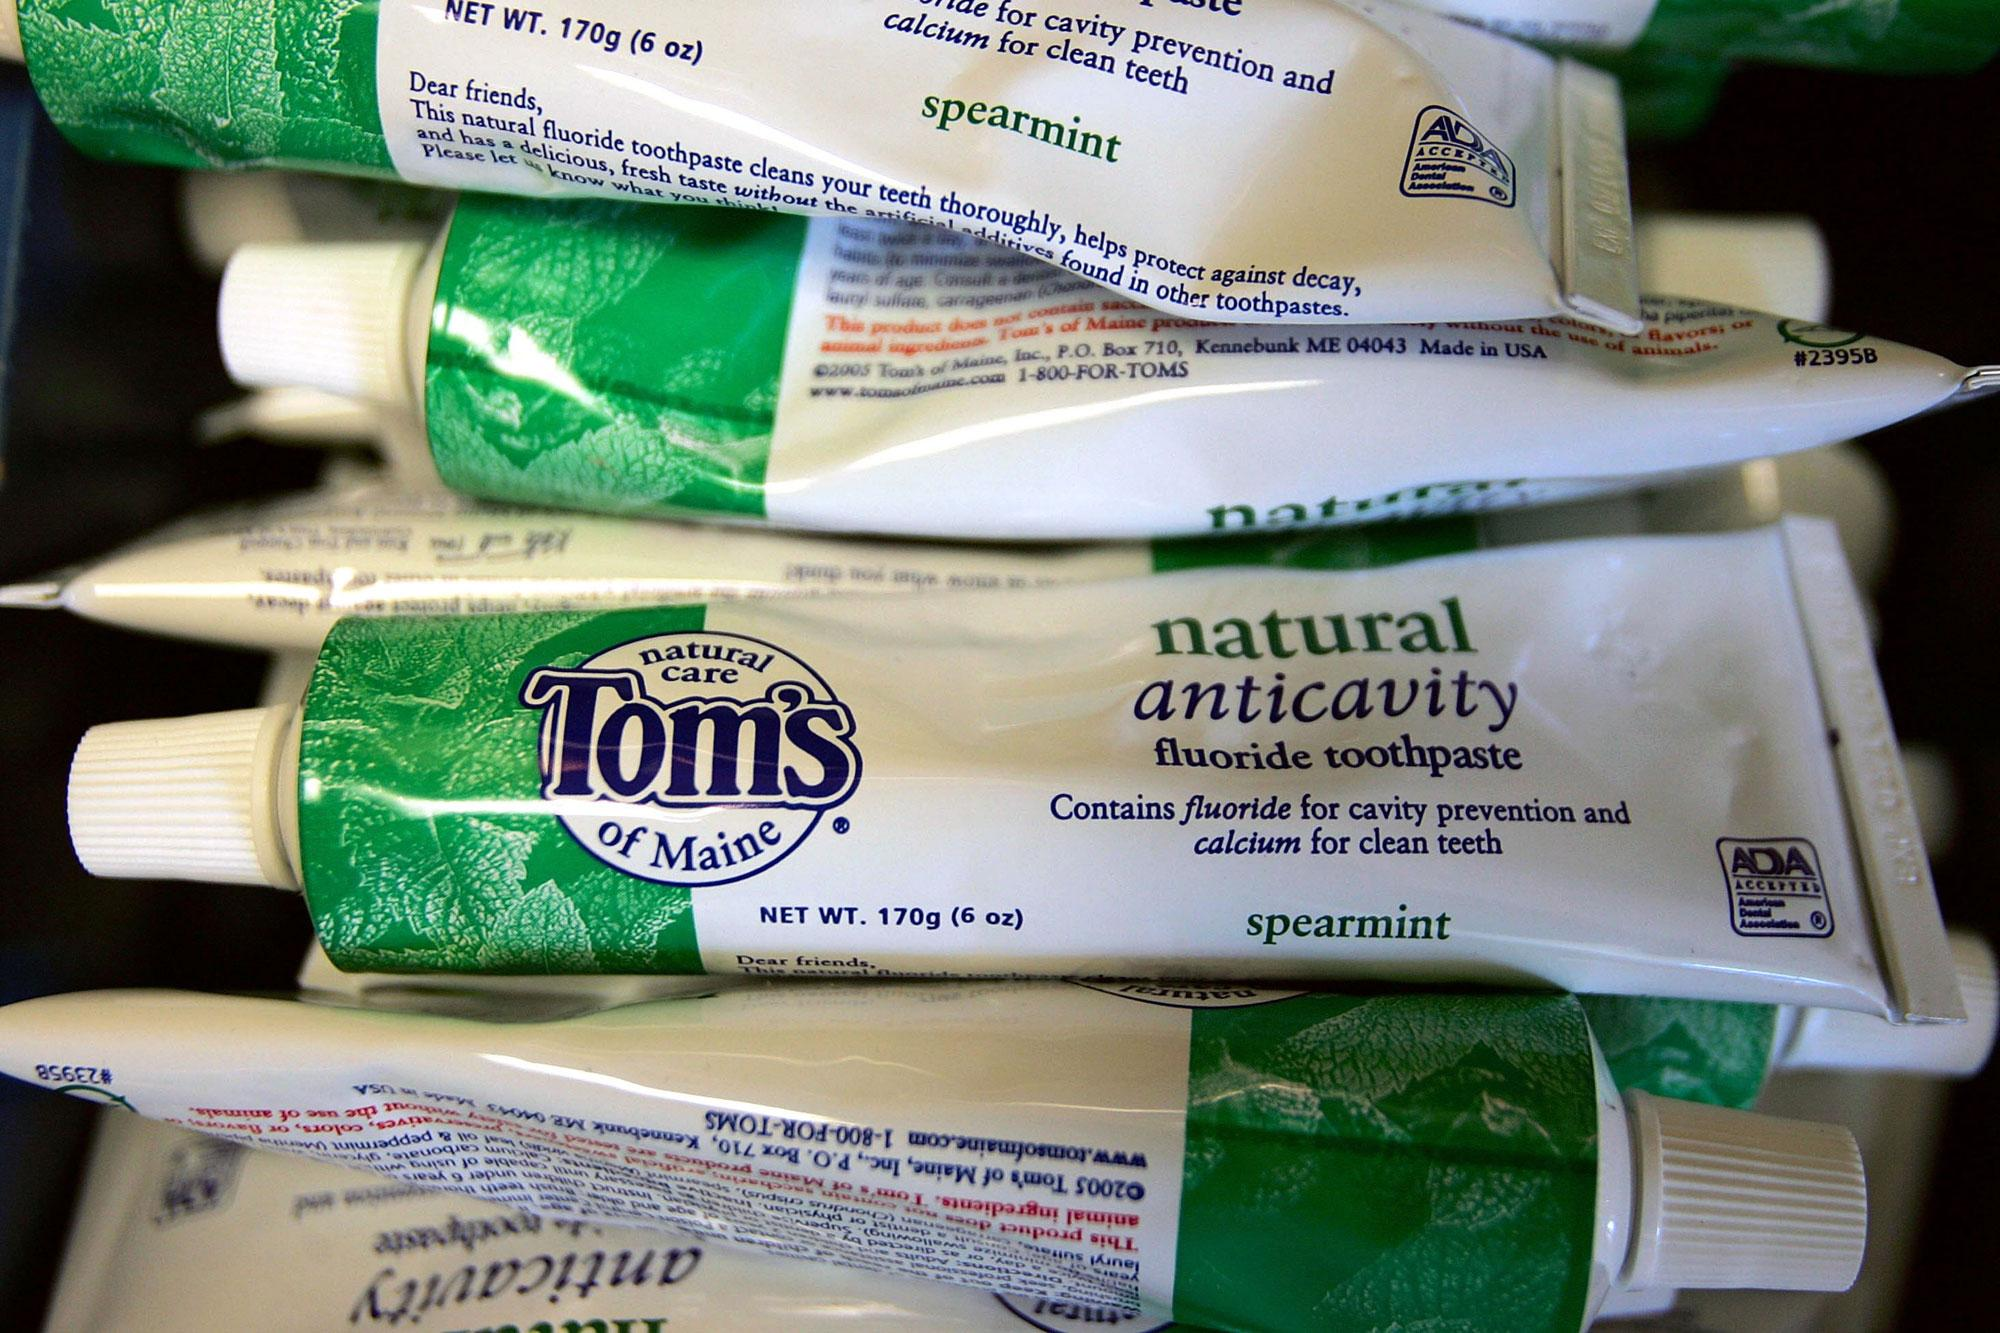toothpaste: (51, 588, 2000, 1040), (0, 922, 1914, 1332), (210, 159, 1976, 534), (0, 0, 1686, 342)
